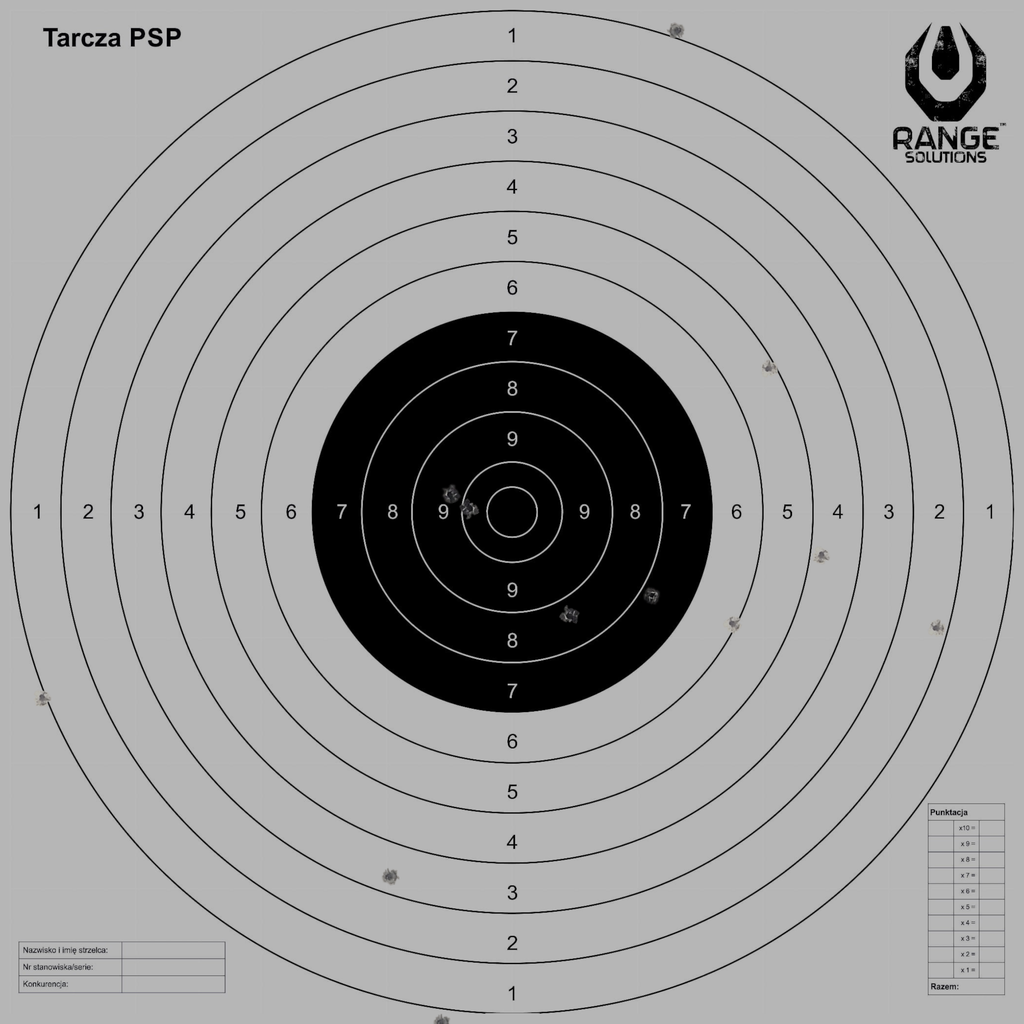0 punktow: (432, 1013, 450, 1024)
1 punkt: (33, 689, 52, 707)
10 punktow: (460, 499, 479, 517)
2 punkty: (927, 619, 946, 637)
3 punkty: (380, 868, 399, 886)
4 punkty: (812, 546, 831, 564)
5 punktow: (759, 359, 778, 378)
6 punktow: (724, 614, 742, 633)
7 punktow: (643, 586, 662, 604)
8 punktow: (561, 607, 579, 625)
9 punktow: (441, 485, 459, 504)
